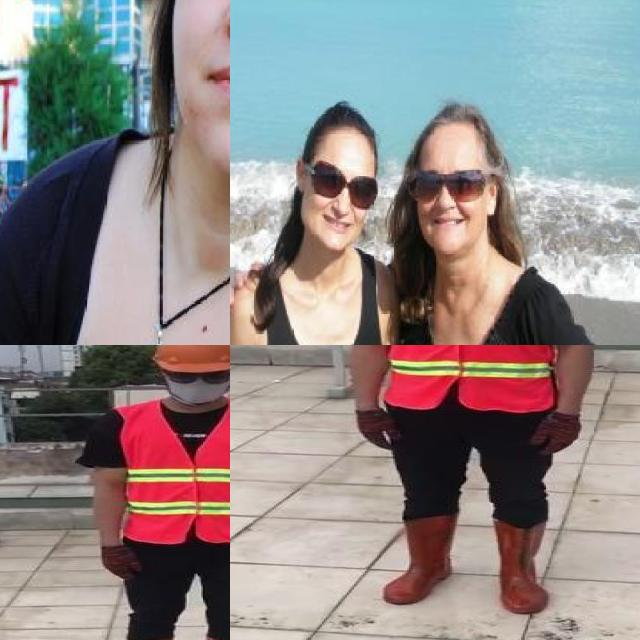boots: (382, 516, 462, 604), (492, 517, 556, 614)
face_mask: (164, 363, 230, 403)
face_nomask: (406, 170, 492, 238), (308, 161, 377, 240)
glasses: (303, 155, 381, 211), (406, 165, 489, 208), (159, 364, 230, 386)
hand_glove: (530, 416, 580, 456), (356, 408, 402, 449), (100, 545, 146, 580)
hand_noglove: (230, 264, 268, 321)
head_helmet: (152, 345, 230, 374)
head_nohelmet: (409, 100, 497, 146), (303, 100, 381, 144)
person: (0, 0, 230, 345), (337, 345, 603, 614), (381, 91, 640, 345), (84, 345, 230, 640), (230, 87, 394, 345)
vest: (123, 400, 230, 545), (378, 345, 558, 414)
